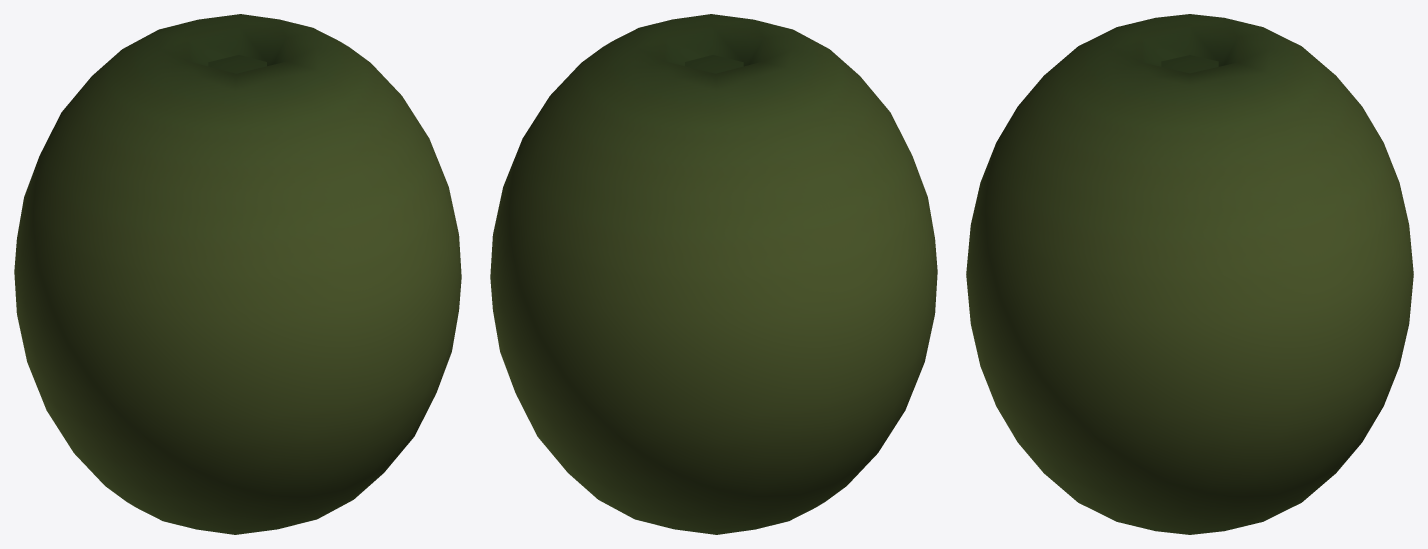
File: Olive.glb
3 views of the same model, side by side, from view 1: azimuth 30°, elevation 25°; view 2: azimuth 150°, elevation 25°; view 3: azimuth 270°, elevation 25° (orthographic).
Visible parts, largest first — view 1: geometry_0; view 2: geometry_0; view 3: geometry_0.
Part boxes in pixels (x1,y1,x2,y2): geometry_0: [14, 14, 461, 534]; geometry_0: [490, 14, 937, 534]; geometry_0: [966, 14, 1413, 534].
Bounding box in the file's own units: 1.65 × 1.83 × 1.65.
Materials: 1 (1 with a texture image).
